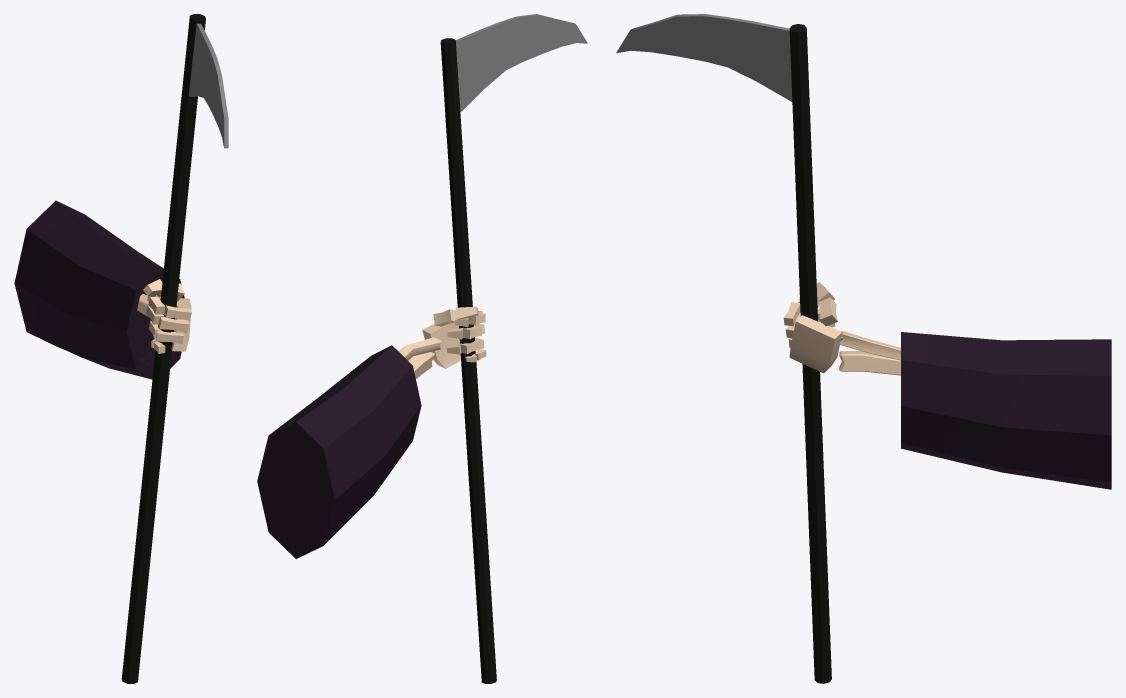
The model's file is TrainJam_Left_Hand_Scyth.fbx.
The picture shows the model from 3 angles, left to right: view 1: azimuth 30°, elevation 25°; view 2: azimuth 150°, elevation 25°; view 3: azimuth 270°, elevation 25°; orthographic projection. The views are drawn at different scales.
Visible parts, largest first — view 1: polySurface91; view 2: polySurface91; view 3: polySurface91.
Boxes of the visible parts, box(x1,y1,x2,y2) form: polySurface91: box(14, 14, 228, 683); polySurface91: box(257, 14, 587, 683); polySurface91: box(616, 14, 1111, 683).
Bounding box in the file's own units: 0.6707 × 3.7 × 2.44.
1 material, 1 textured.
